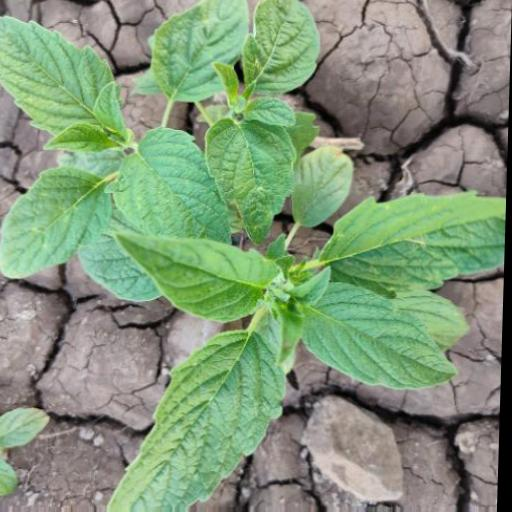crop: (0, 6, 508, 484)
